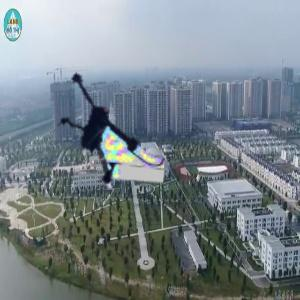drone: (33, 56, 168, 191)
